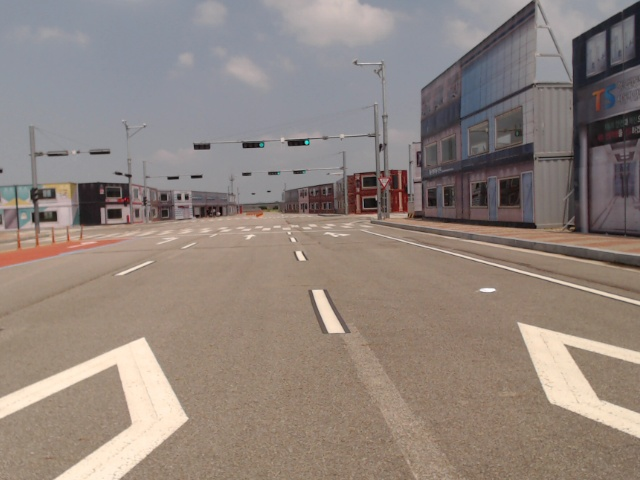straight_green_4: (289, 139, 310, 147), (243, 139, 263, 147)
